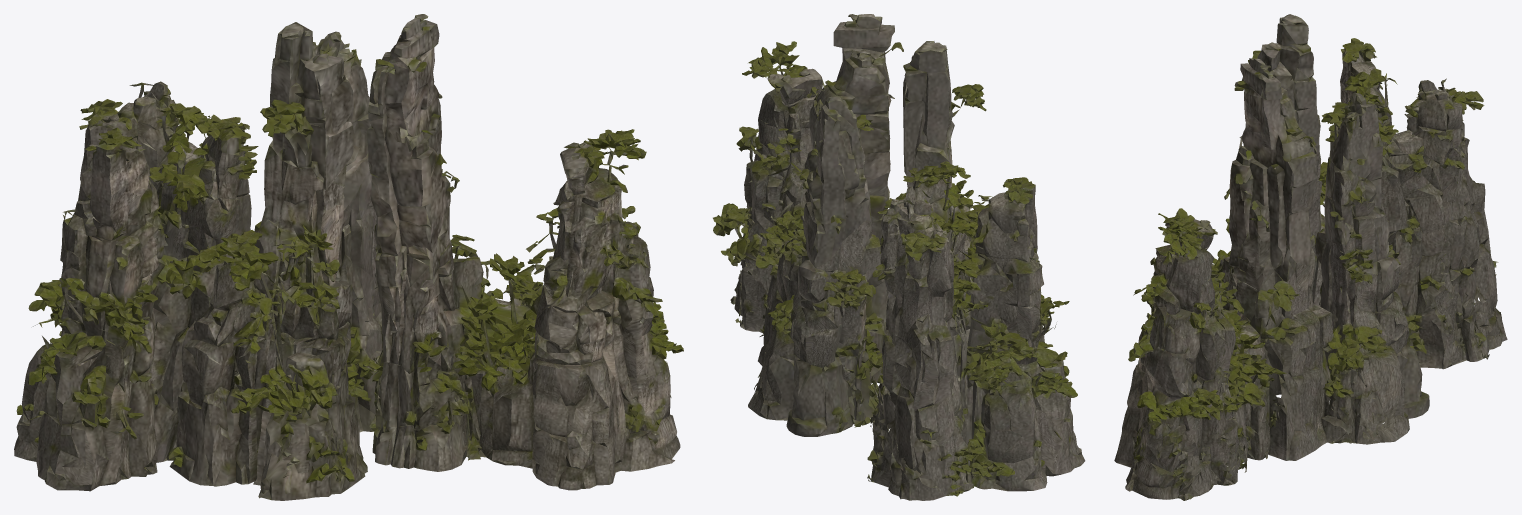
Rendered from pillars_a_mid.glb.
3 renders of one model, left to right at view 1: azimuth 30°, elevation 25°; view 2: azimuth 150°, elevation 25°; view 3: azimuth 270°, elevation 25°, orthographic. The views are drawn at different scales.
Parts seen in each view (by area): view 1: Mesh_0; view 2: Mesh_0; view 3: Mesh_0.
Part boxes in pixels (x1,y1,x2,y2): Mesh_0: (14,14,683,500); Mesh_0: (713,14,1085,500); Mesh_0: (1114,14,1507,500).
Bounding box in the file's own units: 1.89 × 1.45 × 1.45.
1 material, 1 textured.
